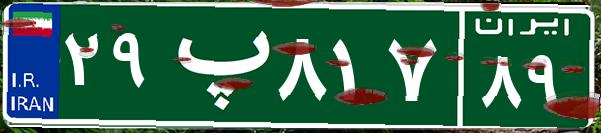1: (330, 28, 385, 110)
2: (57, 26, 110, 107)
7: (385, 28, 445, 110)
8: (273, 28, 330, 110), (475, 38, 525, 113)
9: (110, 28, 158, 105), (525, 38, 570, 115)
پ: (158, 15, 273, 115)
